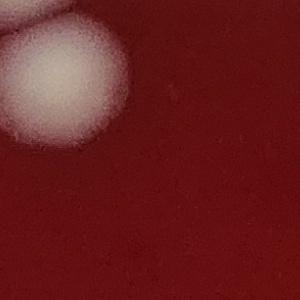colony: (0, 6, 138, 159), (0, 0, 90, 43)
